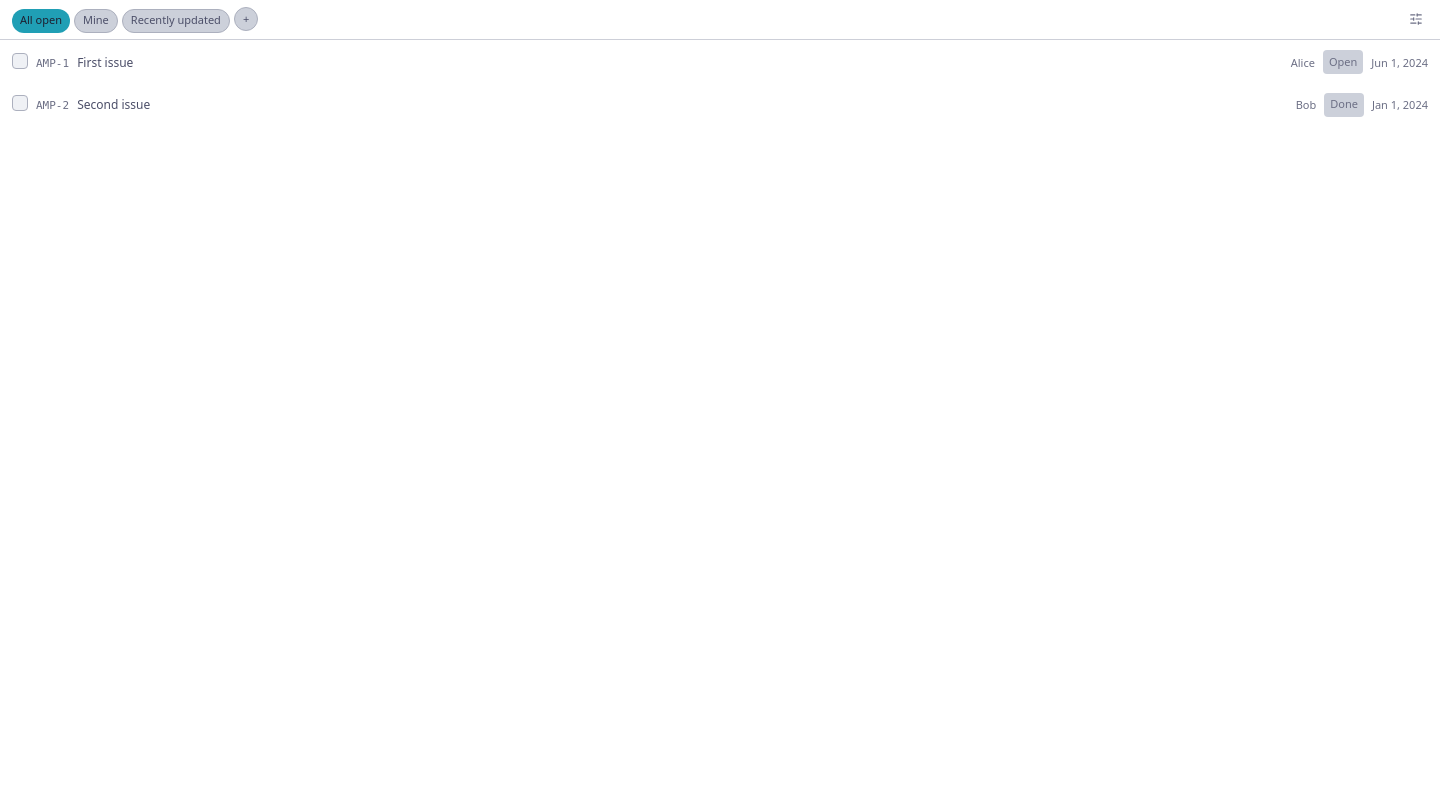
Test case: CollectionViewerPage › opens view settings with normalized summaries
The width and height of the screenshot is (1440, 810).
What coordinates should you click on to do the following:
click the button named "open view settings"
I would click on:
 (1416, 20)
Its box is [1404, 8, 1428, 32].
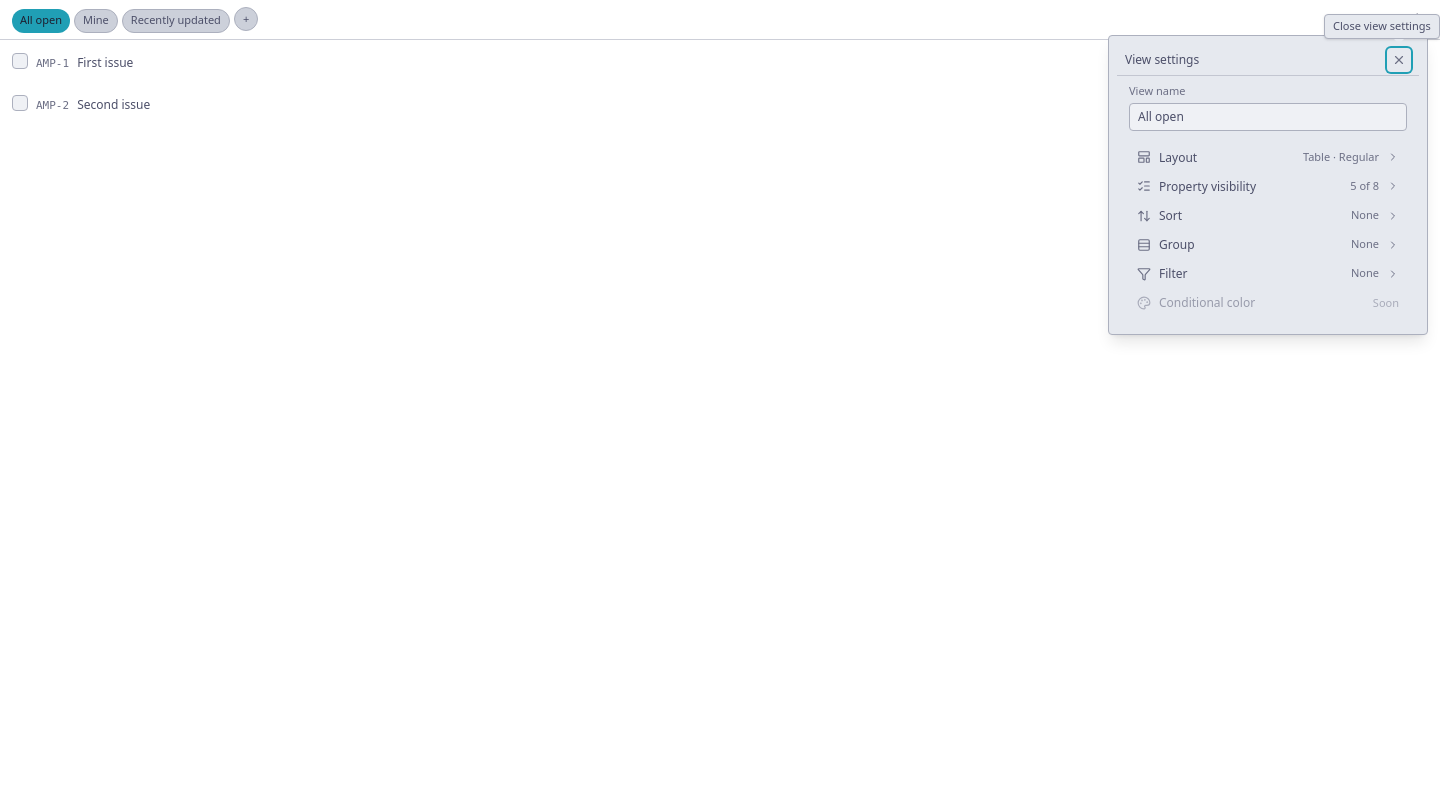
Now the heading "View settings" is shown, box [1125, 51, 1199, 68]
Now the field labelled "View name" holds "All open", box [1129, 103, 1407, 131]
Now the text "Table · Regular" is shown, box [1303, 150, 1379, 165]
